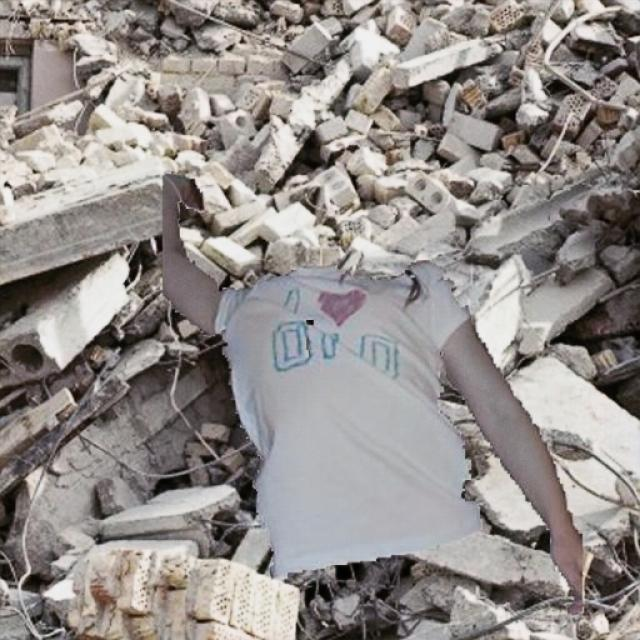Person in Rubble: (163, 172, 582, 616)
